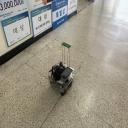cart: (48, 62, 74, 96)
